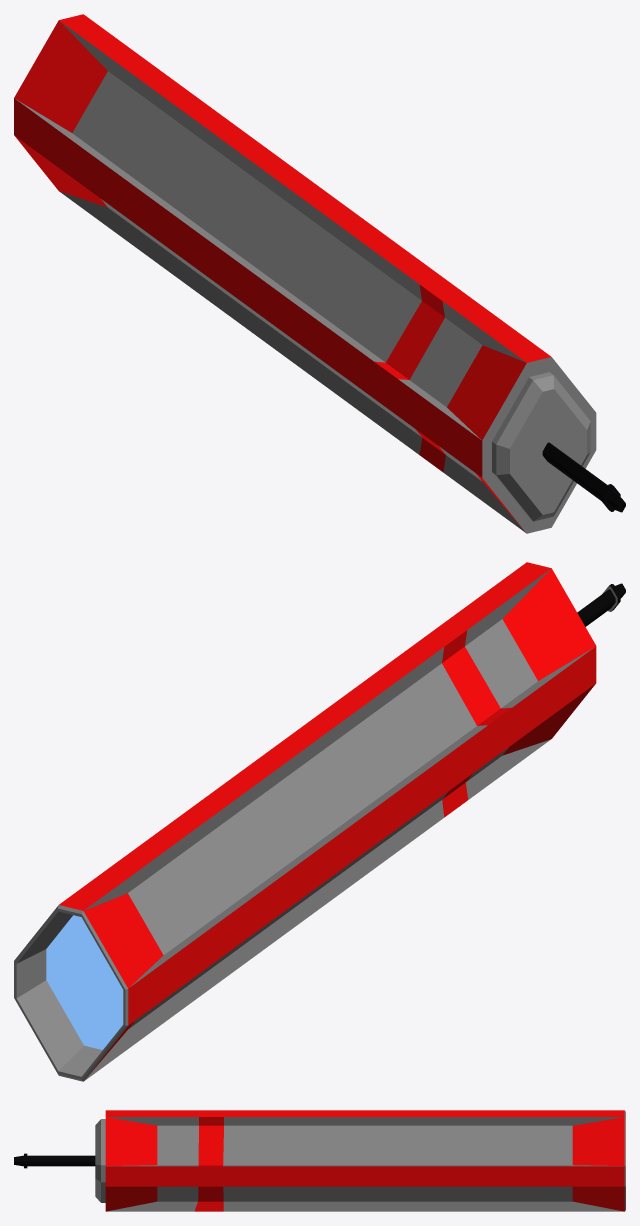
File: LMG.fbx
The picture shows the model from 3 angles, top to bottom: view 1: azimuth 30°, elevation 25°; view 2: azimuth 150°, elevation 25°; view 3: azimuth 270°, elevation 25°; orthographic projection. The views are drawn at different scales.
Visible parts, largest first — view 1: gun; view 2: gun; view 3: gun.
Boxes of the visible parts, x1,y1,x2,y2 form: gun: (14, 14, 625, 533); gun: (14, 562, 625, 1081); gun: (14, 1110, 625, 1211).
Size of the model in its own units: 3.11 by 4.44 by 26.
